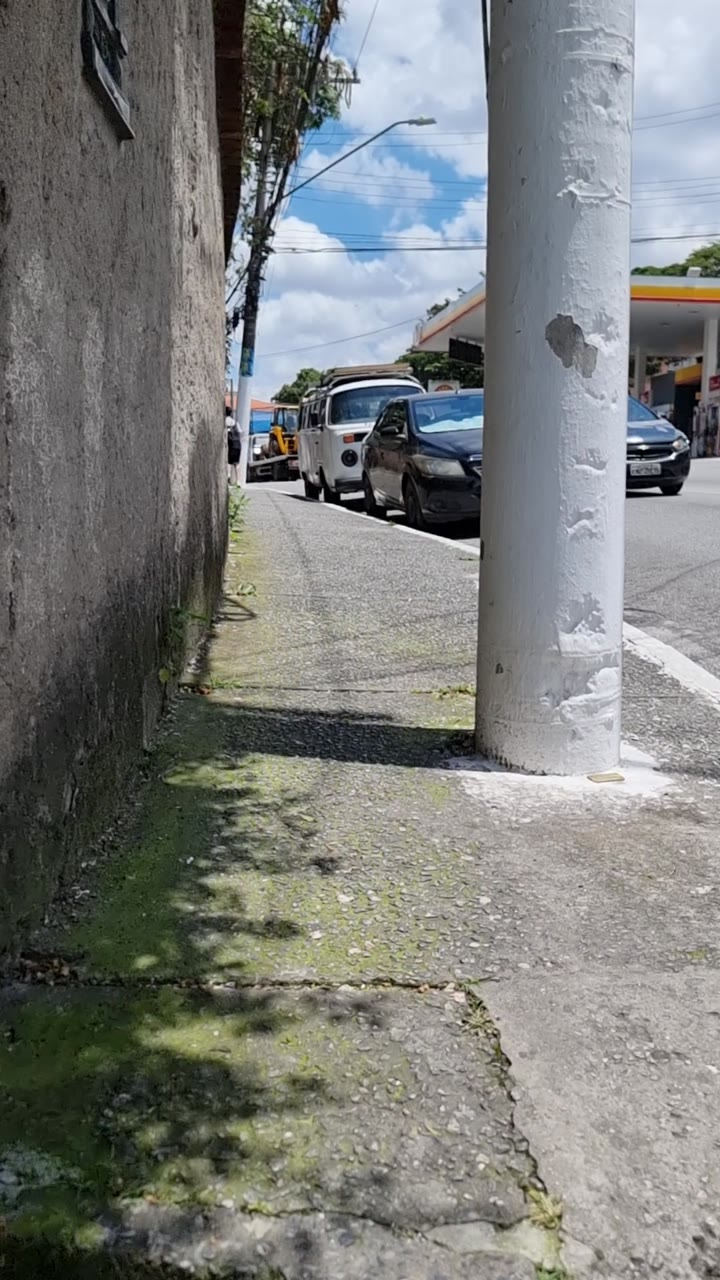obstaculo: (482, 1, 634, 775)
